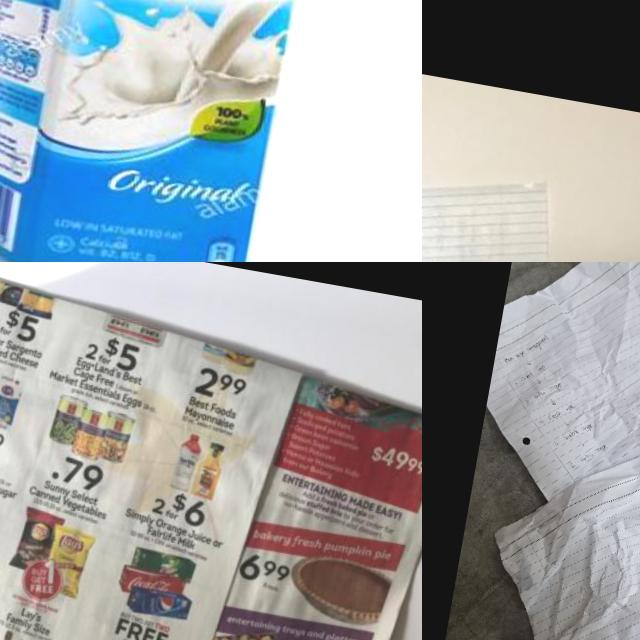caixinha: (0, 0, 331, 262)
papel: (0, 262, 422, 640), (469, 262, 640, 559), (458, 386, 640, 640), (422, 137, 585, 262)
